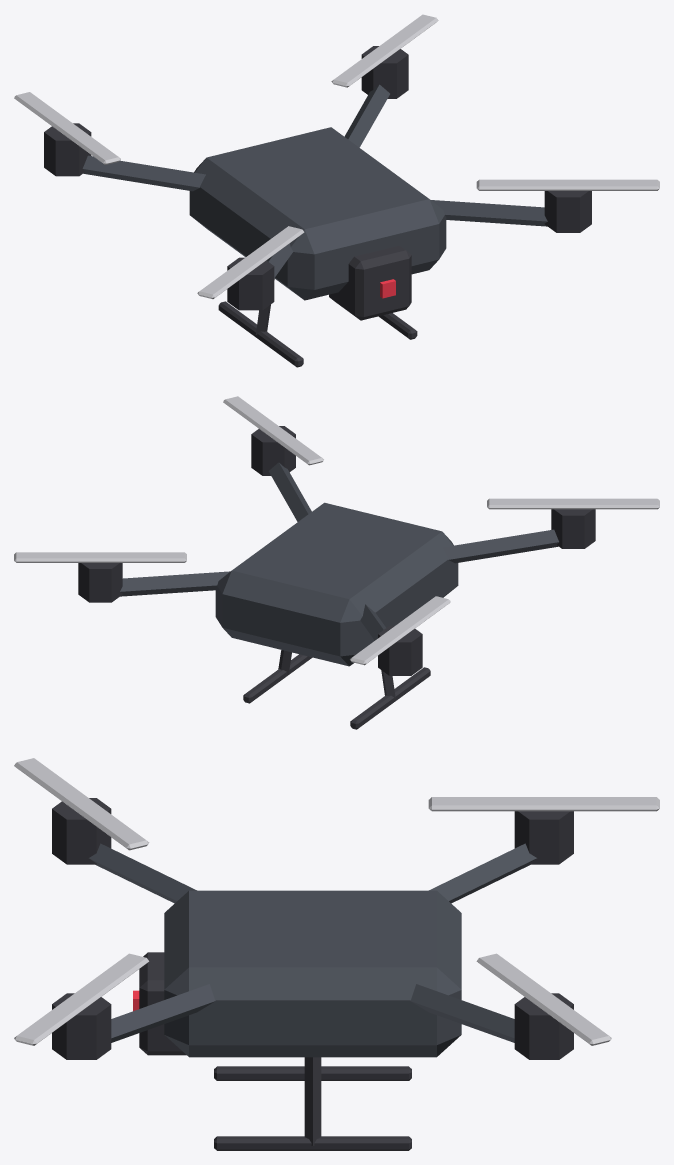
File: Drone.fbx
The picture shows the model from 3 angles, top to bottom: view 1: azimuth 30°, elevation 25°; view 2: azimuth 150°, elevation 25°; view 3: azimuth 270°, elevation 25°; orthographic projection. The views are drawn at different scales.
Parts seen in each view (by area): view 1: Drone, Drone_Rotor3, Drone_Rotor4, Drone_Rotor1, Drone_Rotor2; view 2: Drone, Drone_Rotor4, Drone_Rotor1, Drone_Rotor2, Drone_Rotor3; view 3: Drone, Drone_Rotor2, Drone_Rotor4, Drone_Rotor1, Drone_Rotor3.
Part boxes in pixels (x1,y1,x2,y2): Drone: (44, 46, 591, 367); Drone_Rotor3: (476, 179, 659, 190); Drone_Rotor4: (197, 226, 304, 299); Drone_Rotor1: (331, 14, 438, 87); Drone_Rotor2: (14, 92, 120, 164); Drone: (78, 426, 595, 729); Drone_Rotor4: (487, 498, 659, 509); Drone_Rotor1: (14, 552, 186, 562); Drone_Rotor2: (350, 596, 450, 665); Drone_Rotor3: (223, 396, 323, 465); Drone: (52, 798, 573, 1150); Drone_Rotor2: (428, 797, 659, 811); Drone_Rotor4: (14, 758, 149, 850); Drone_Rotor1: (476, 953, 611, 1045); Drone_Rotor3: (14, 953, 149, 1045).
Size of the model in its own units: 4.07 by 1.44 by 3.91.
1 material, 1 textured.
